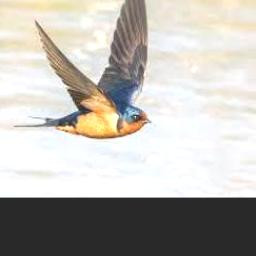Swallow: (14, 0, 153, 138)
